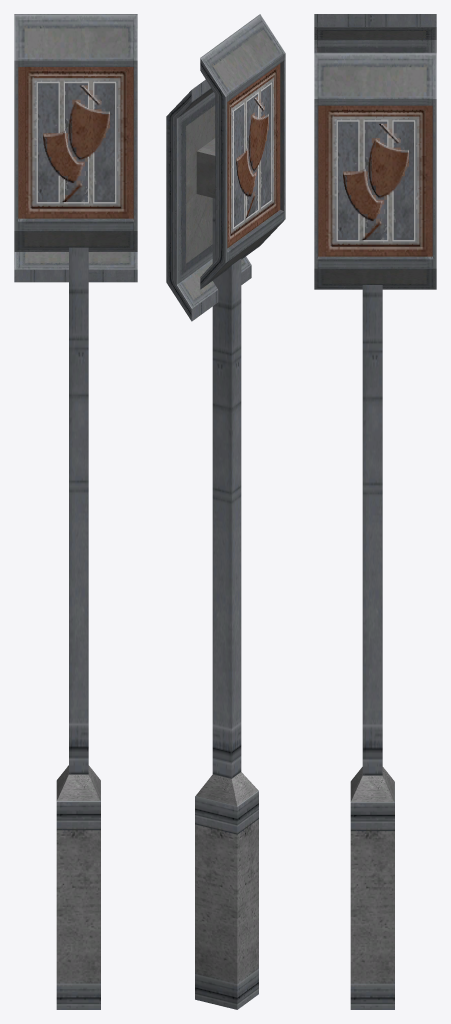
The model's file is thm_sign_all_standing_l0.fbx.
3 views of the same model, side by side, from view 1: azimuth 90°, elevation 25°; view 2: azimuth 150°, elevation 25°; view 3: azimuth 270°, elevation 25° (orthographic). The views are drawn at different scales.
Parts seen in each view (by area): view 1: mesh_node; view 2: mesh_node; view 3: mesh_node.
Part boxes in pixels (bbox=[...]): mesh_node: bbox=[14, 14, 137, 1009]; mesh_node: bbox=[166, 14, 285, 1009]; mesh_node: bbox=[314, 14, 436, 1009].
Size of the model in its own units: 0.3244 by 5.03 by 0.5677.
2 materials, 2 textured.
